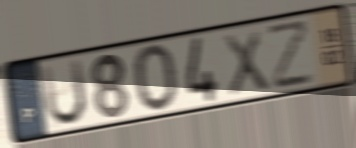4: (185, 33, 221, 106)
8: (89, 52, 131, 121)
O: (132, 42, 181, 116)
U: (37, 55, 89, 129)
X: (221, 26, 272, 99)
Z: (265, 15, 316, 92)
